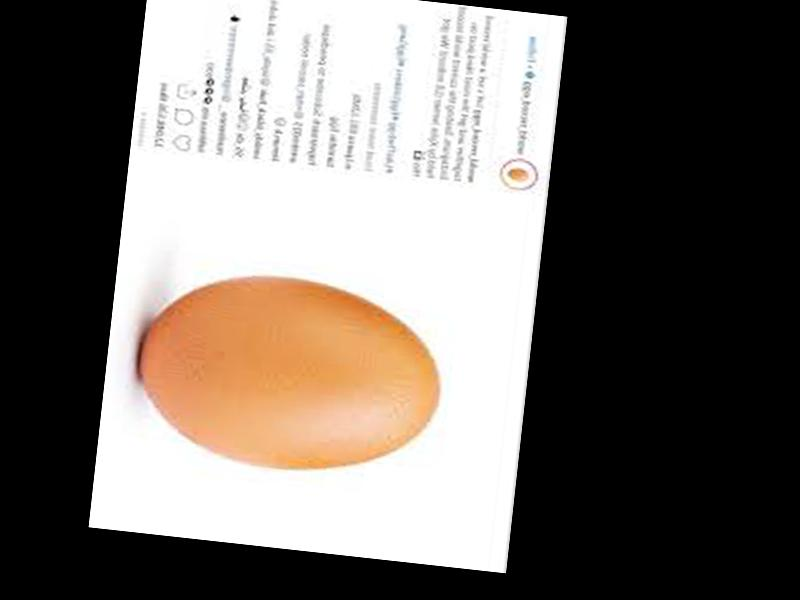Eggs: (132, 264, 450, 487)
